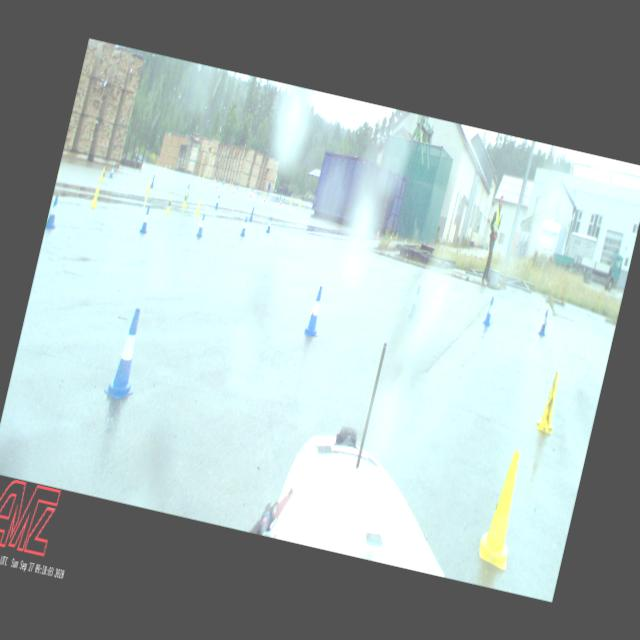blue_cone: (102, 306, 152, 403), (302, 286, 328, 336), (407, 284, 423, 320), (46, 196, 61, 230), (482, 295, 496, 326), (139, 206, 152, 233), (538, 308, 550, 336), (196, 214, 207, 236), (240, 216, 248, 236), (266, 216, 272, 232), (248, 206, 254, 222), (108, 165, 115, 178), (150, 175, 156, 188), (184, 184, 190, 197), (214, 196, 220, 208), (276, 193, 278, 200), (284, 196, 286, 200)
orange_cone: (376, 229, 380, 240), (232, 186, 236, 194), (248, 190, 252, 198), (388, 232, 392, 240), (278, 199, 282, 206), (262, 195, 266, 202), (216, 180, 219, 188), (213, 176, 216, 184), (230, 180, 232, 188), (404, 237, 406, 244)
yellow_cone: (473, 448, 531, 572), (534, 368, 566, 437), (90, 185, 100, 208), (165, 194, 172, 214), (194, 199, 202, 215), (100, 166, 106, 182), (146, 178, 152, 194), (182, 192, 188, 206), (300, 198, 302, 206), (290, 196, 292, 204), (202, 175, 205, 180), (299, 198, 301, 204)
